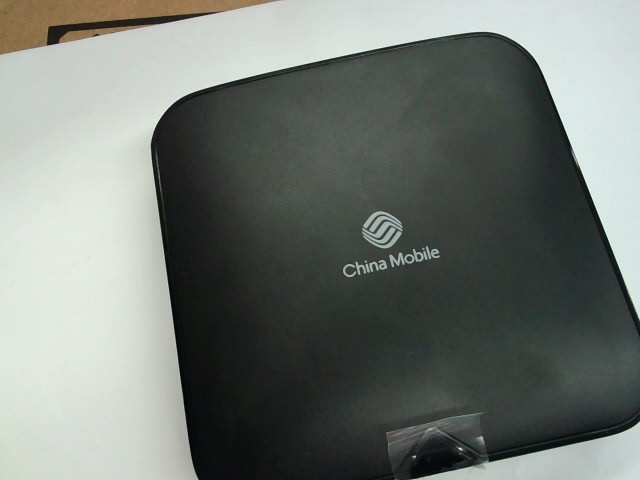AA_ChinaMobile: (332, 205, 449, 279)
